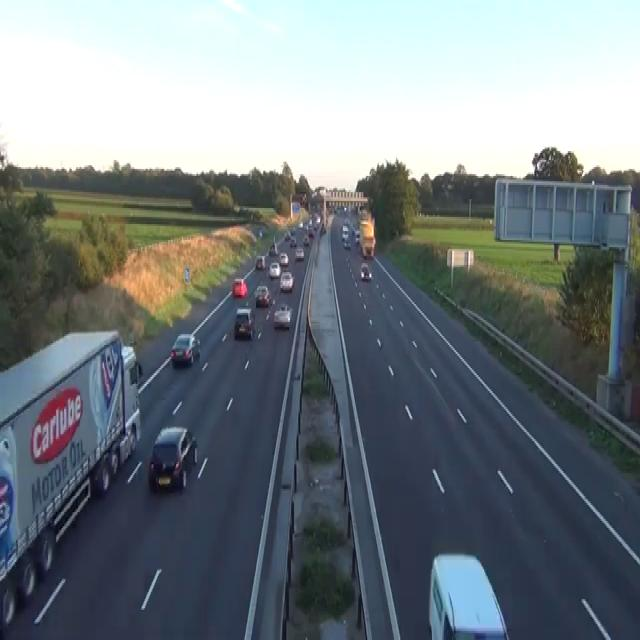Car: (428, 551, 509, 638), (148, 425, 197, 492), (170, 332, 200, 367), (233, 306, 253, 340), (273, 302, 292, 329), (254, 284, 271, 308), (279, 270, 294, 292), (232, 277, 247, 297), (359, 261, 372, 281), (362, 236, 375, 256), (269, 262, 281, 278), (255, 254, 265, 270), (312, 212, 320, 230), (279, 251, 289, 265), (294, 247, 304, 260), (269, 242, 278, 256), (341, 224, 349, 235), (300, 192, 307, 204), (320, 222, 326, 235), (343, 238, 350, 249), (284, 229, 291, 240), (303, 233, 309, 245), (289, 237, 296, 247), (341, 233, 348, 243), (308, 226, 314, 236), (355, 231, 359, 244), (290, 226, 296, 234), (298, 220, 303, 228), (343, 204, 347, 212), (259, 228, 262, 238)
Truck: (0, 327, 142, 631), (358, 215, 375, 258)
